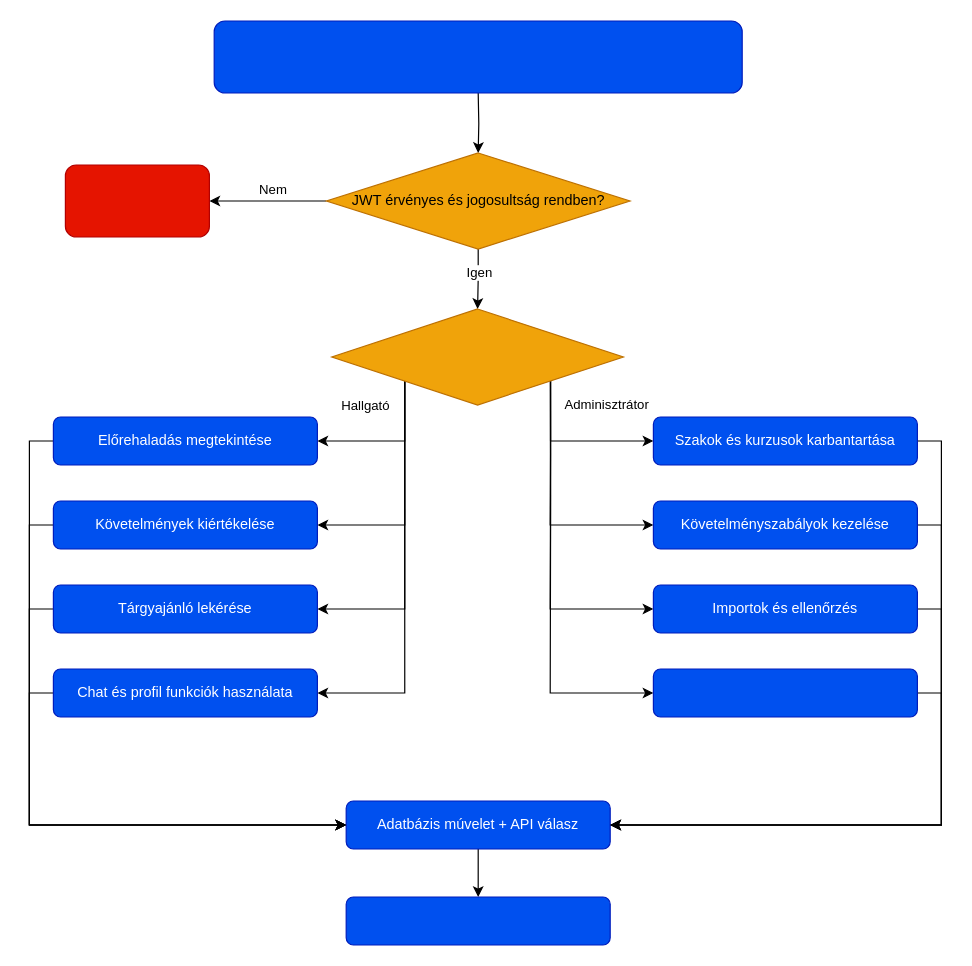
Image size: 972x966. Some labels were removed from this diagram. The shapes that lost their labels are listed below. From the top down, each one's box as (x1, y1, x2, y2) in pixels, then its label:
(213, 20, 742, 93): Felhasználó megnyitja az alkalmazást
(64, 164, 209, 237): Hibaüzenet
(331, 308, 623, 405): Szerepkör: hallgató vagy adminisztrátor?
(652, 668, 917, 717): Változások mentése és visszajelzés
(345, 896, 610, 945): Felhasználói felület frissítése, eredmény megjelenik
